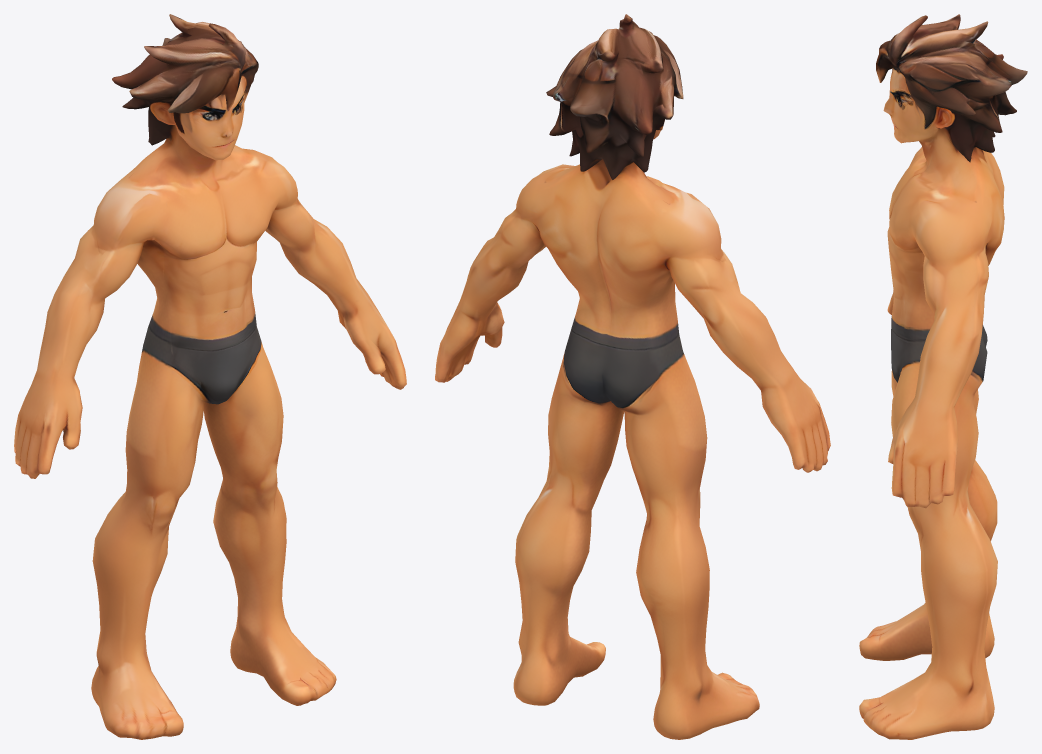
The model's file is model_meshes.0-base_basic_shaded.glb.
3 views of the same model, side by side, from view 1: azimuth 30°, elevation 25°; view 2: azimuth 150°, elevation 25°; view 3: azimuth 270°, elevation 25° (orthographic).
Visible parts, largest first — view 1: model; view 2: model; view 3: model.
Part boxes in pixels (x1,y1,x2,y2): model: [14, 14, 406, 739]; model: [435, 14, 830, 739]; model: [859, 14, 1027, 739].
Size of the model in its own units: 1.07 by 1.84 by 0.4155.
Materials: 1 (1 with a texture image).
